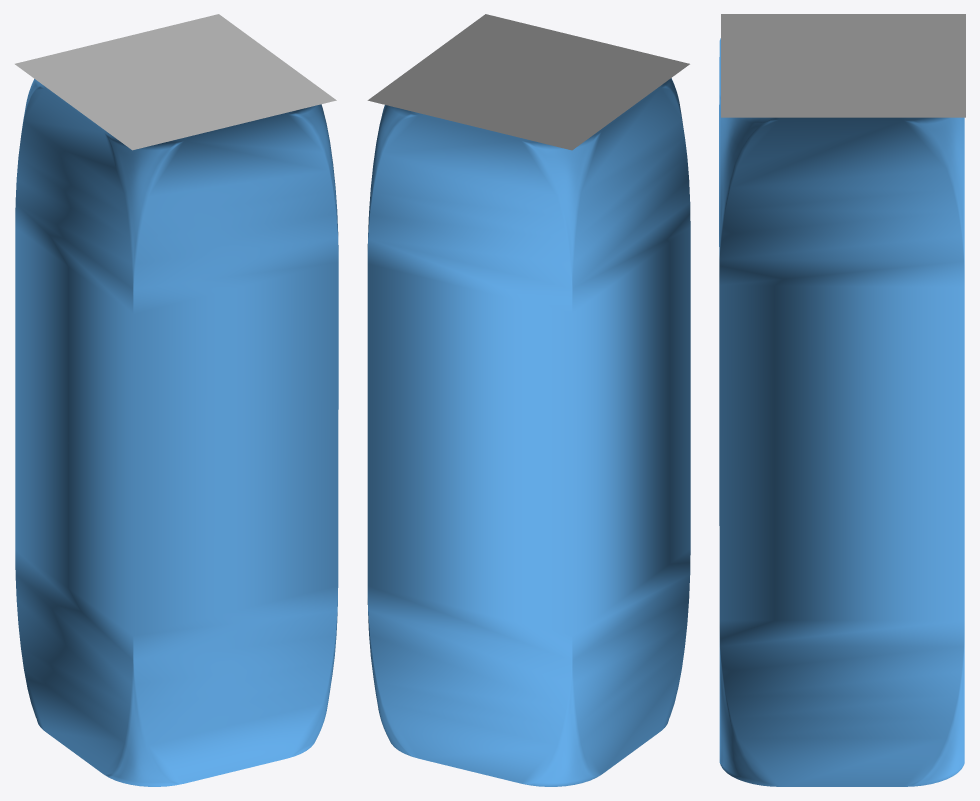
The model's file is BusStopNew.gltf.
3 views of the same model, side by side, from view 1: azimuth 30°, elevation 25°; view 2: azimuth 150°, elevation 25°; view 3: azimuth 270°, elevation 25° (orthographic). The views are drawn at different scales.
Parts seen in each view (by area): view 1: Node1, Node2; view 2: Node1, Node2; view 3: Node1, Node2.
Boxes of the visible parts, x1=… form: Node1: x1=15, y1=79, x2=338, y2=786; Node2: x1=15, y1=14, x2=336, y2=150; Node1: x1=367, y1=78, x2=690, y2=786; Node2: x1=367, y1=14, x2=689, y2=150; Node1: x1=719, y1=38, x2=964, y2=786; Node2: x1=721, y1=14, x2=965, y2=117.
Bounding box in the file's own units: 2.01 × 6.03 × 2.01.
